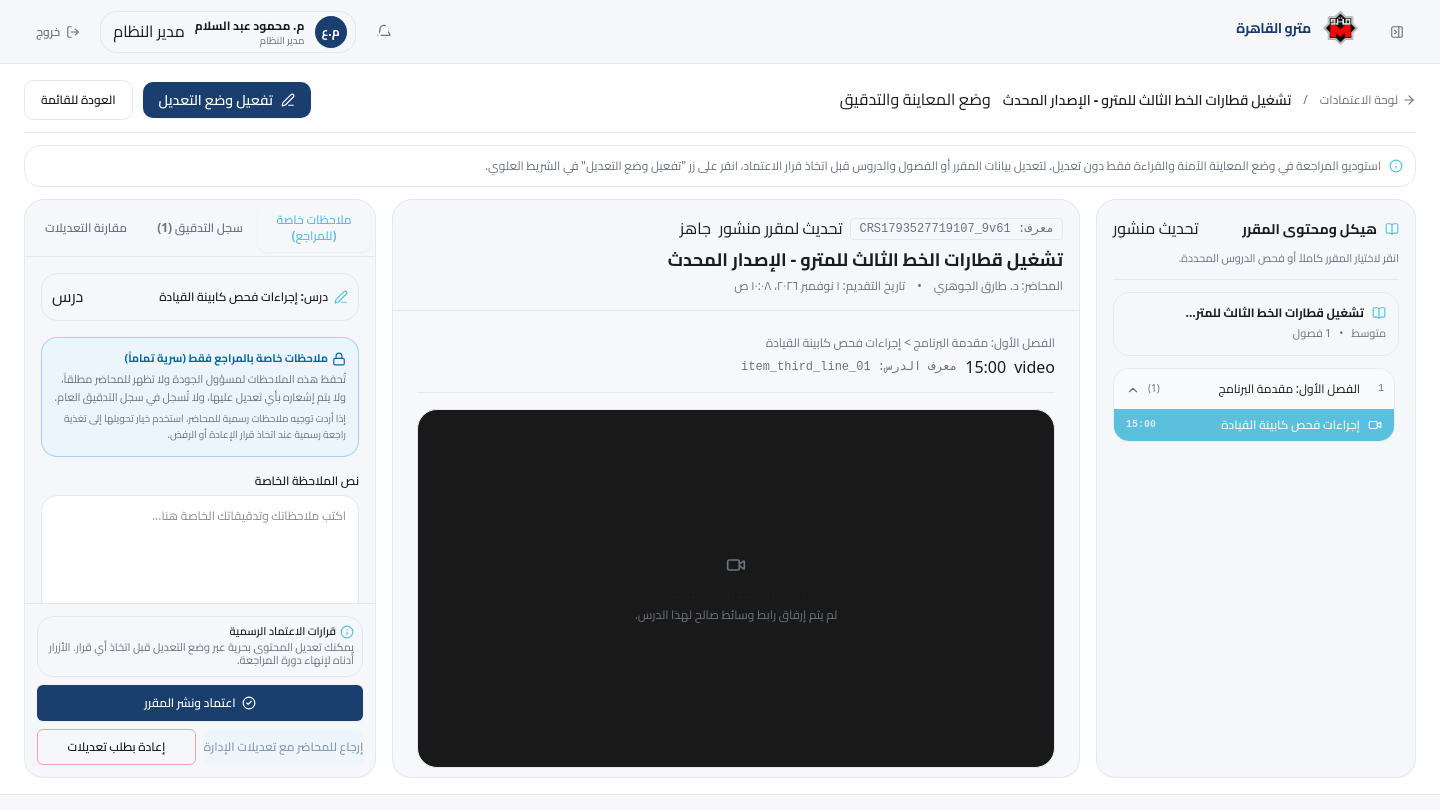
Test: Increment 9 — Phase 6: Decision Modal & The Three Review Outcomes › Outcome A: Approve & Publish › preserves published-course isolation until update approval executes
The image size is (1440, 810).
Click the button with test id "action-approve-btn". click: [200, 703]
box: [37,685,363,721]
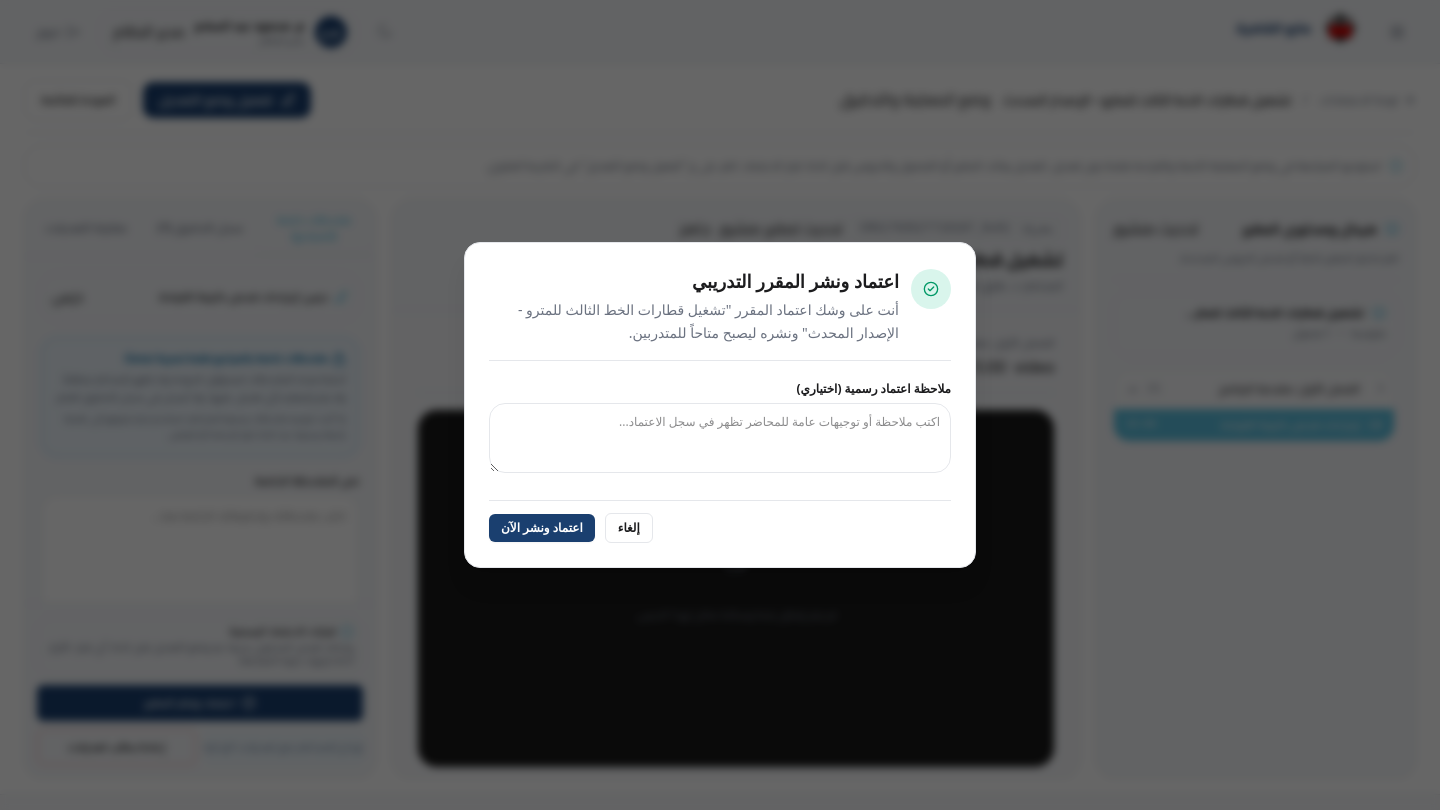
Click the button with test id "confirm-approve-btn". click: [542, 528]
box: [489,514,595,542]
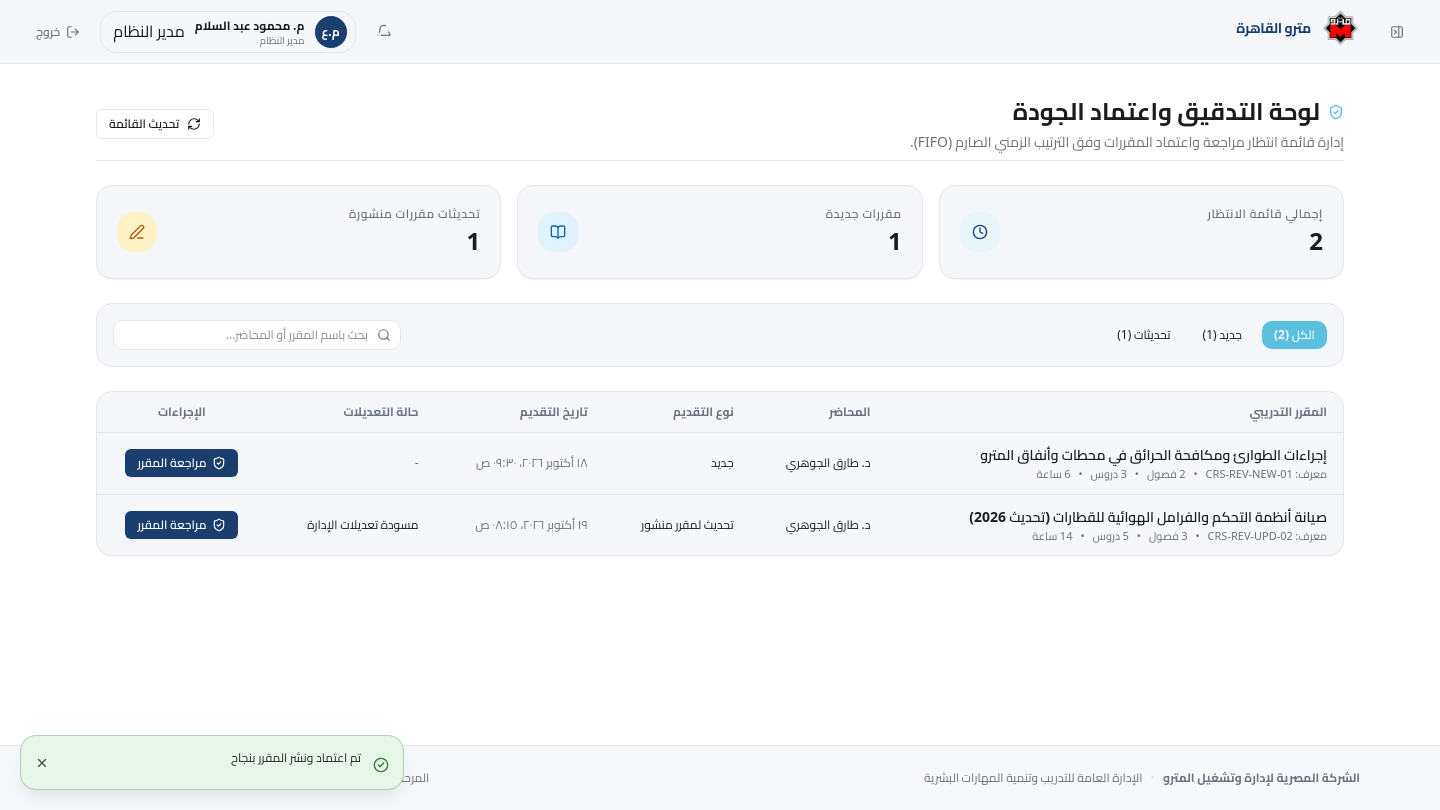
Result: the element with test id "approvals-page" is shown at [80,64,1360,588]
